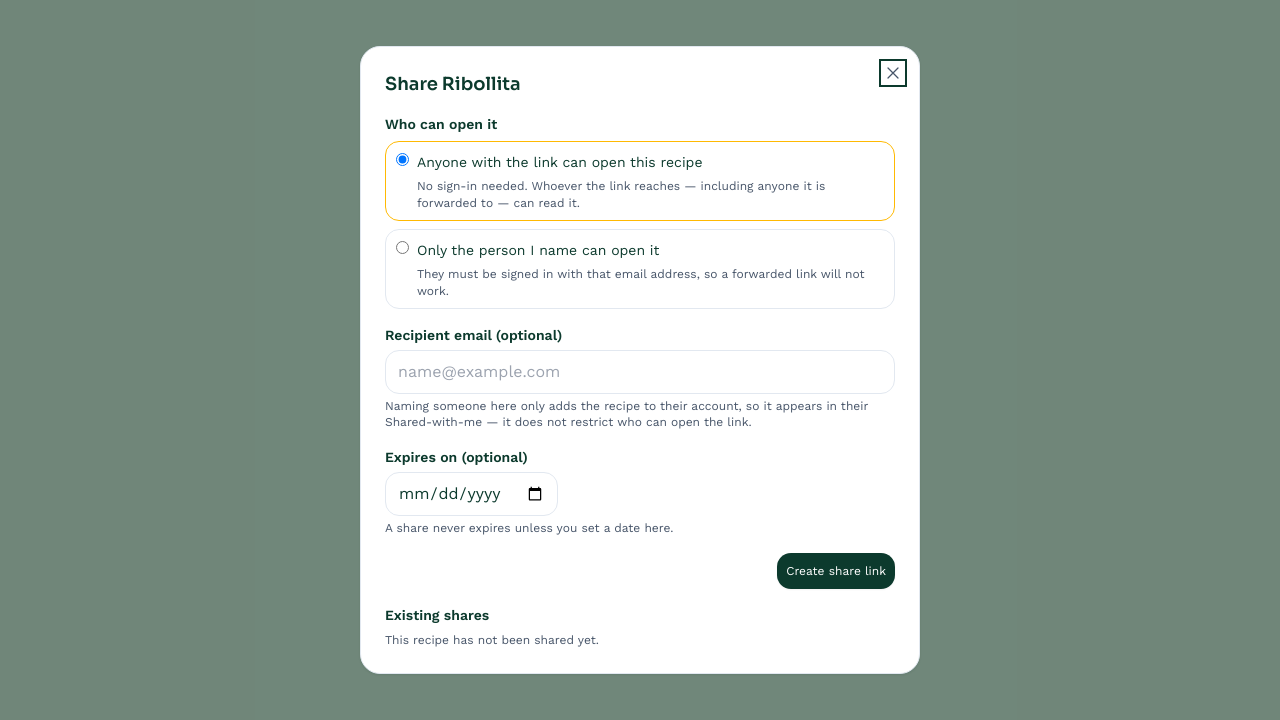
Test case: creates a link share and shows the URL once, with a copy control
Click the button "Create share link".
click(836, 571)  # box [777, 553, 895, 589]
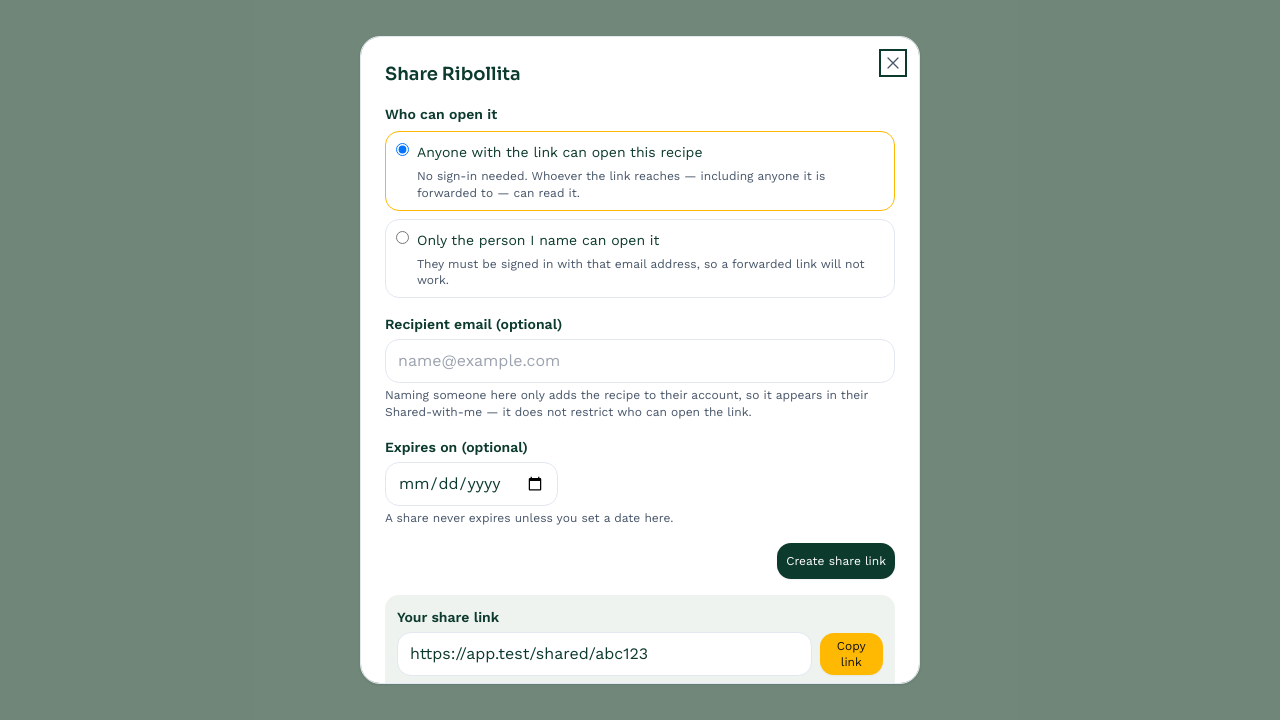
expect the field showing "https://app.test/shared/abc123" is shown: met, box [397, 632, 812, 676]
expect the button "Copy link" is shown: met, box [820, 633, 883, 675]
